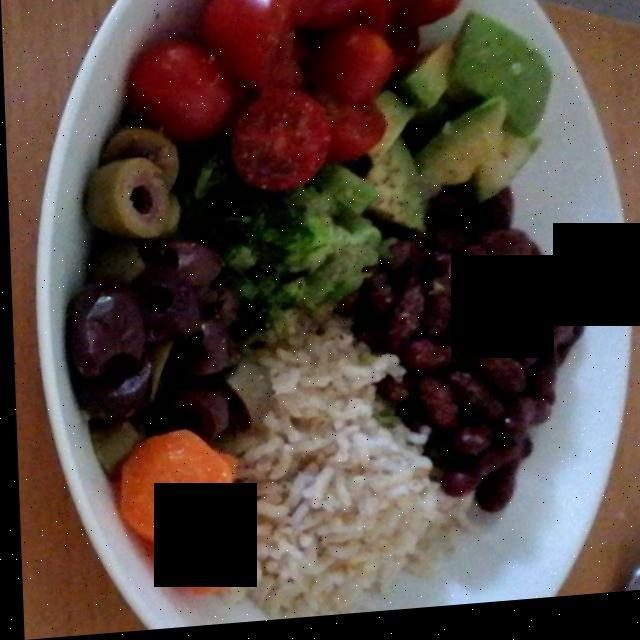avocado: (359, 41, 553, 249)
beans: (344, 196, 572, 520)
black-olives: (66, 133, 261, 453)
broccoli: (227, 186, 388, 362)
carrot: (116, 438, 259, 606)
rice: (232, 339, 462, 612)
tomato: (147, 0, 455, 202)
